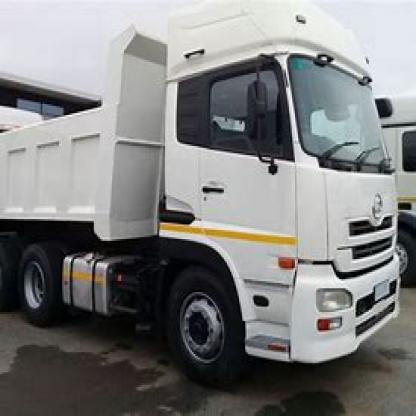dump_truck: (4, 7, 410, 398)
